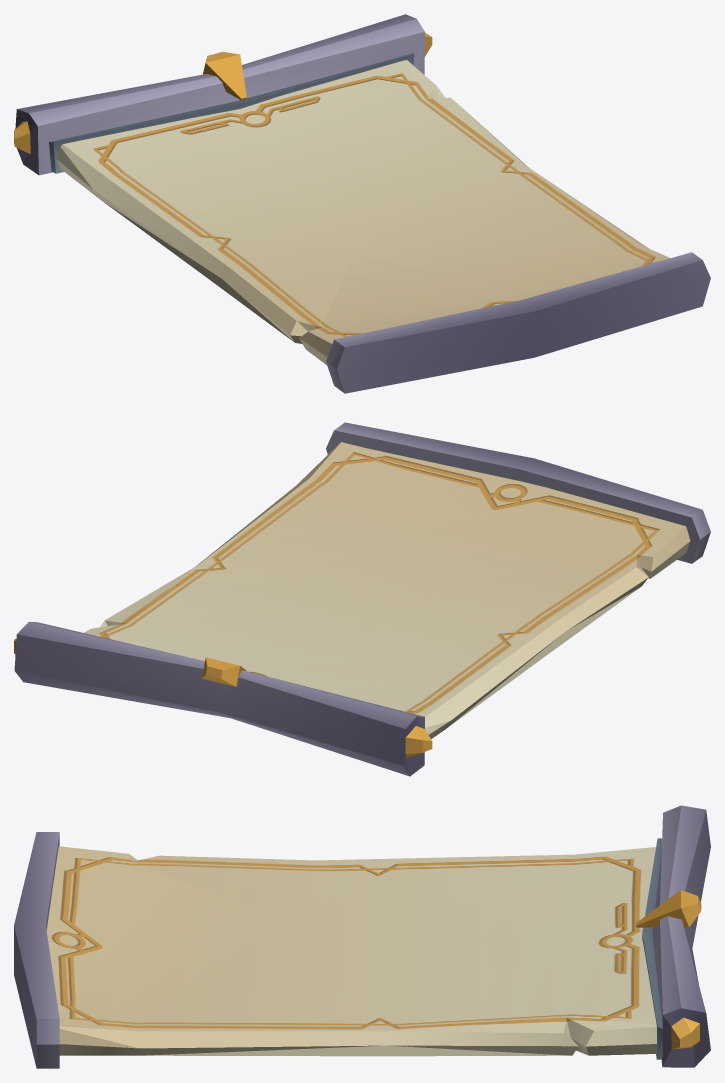
Rendered from MODEL_Note.fbx.
3 views of the same model, one above another, from view 1: azimuth 30°, elevation 25°; view 2: azimuth 150°, elevation 25°; view 3: azimuth 270°, elevation 25° (orthographic). The views are drawn at different scales.
Parts seen in each view (by area): view 1: Cube; view 2: Cube; view 3: Cube.
Part boxes in pixels (left/top/right/bottom): Cube: left=14, top=14, right=710, bottom=393; Cube: left=14, top=422, right=710, bottom=776; Cube: left=14, top=805, right=710, bottom=1068.
Size of the model in its own units: 20.73 by 3.37 by 27.97.
1 material, 1 textured.
